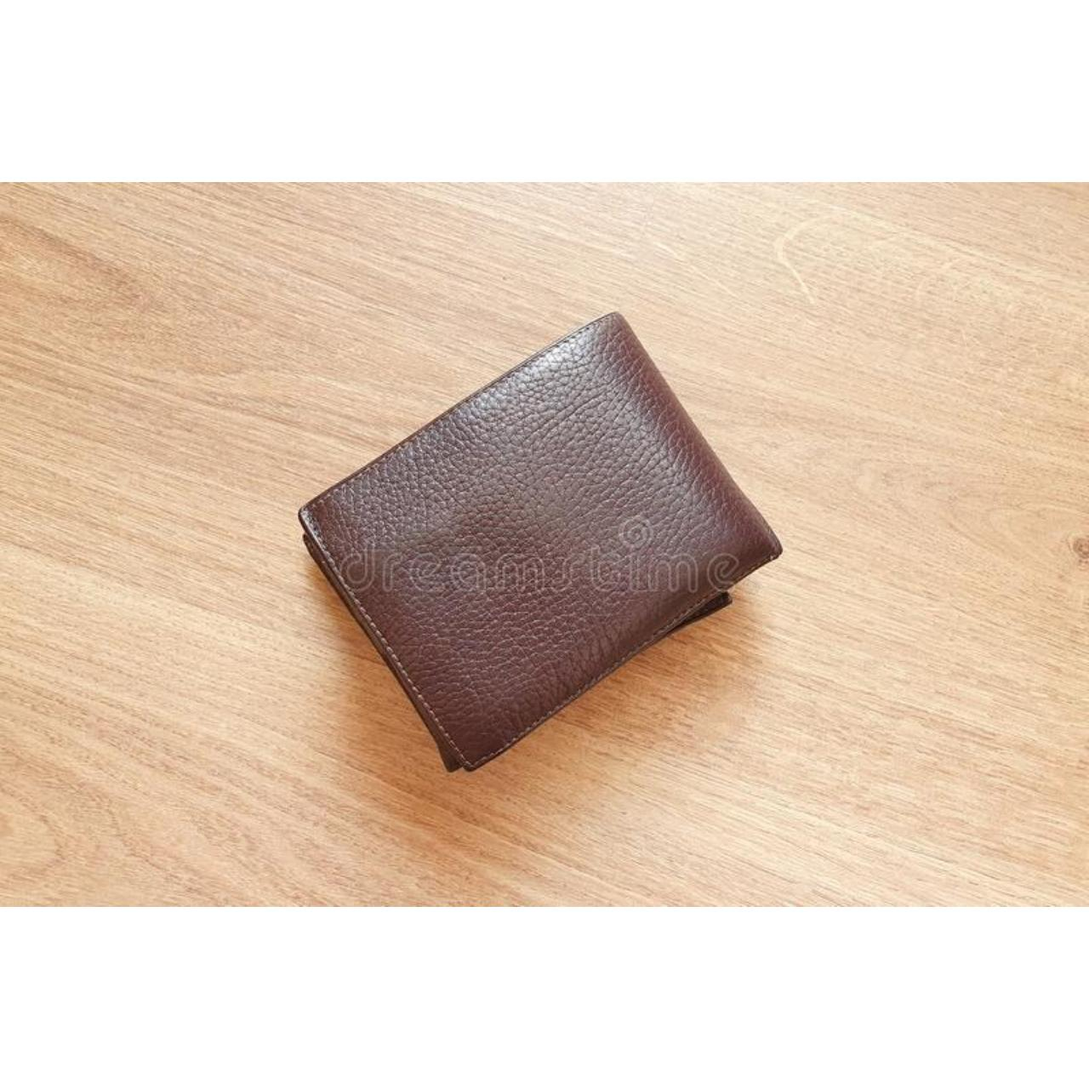wallet: (261, 310, 836, 742)
